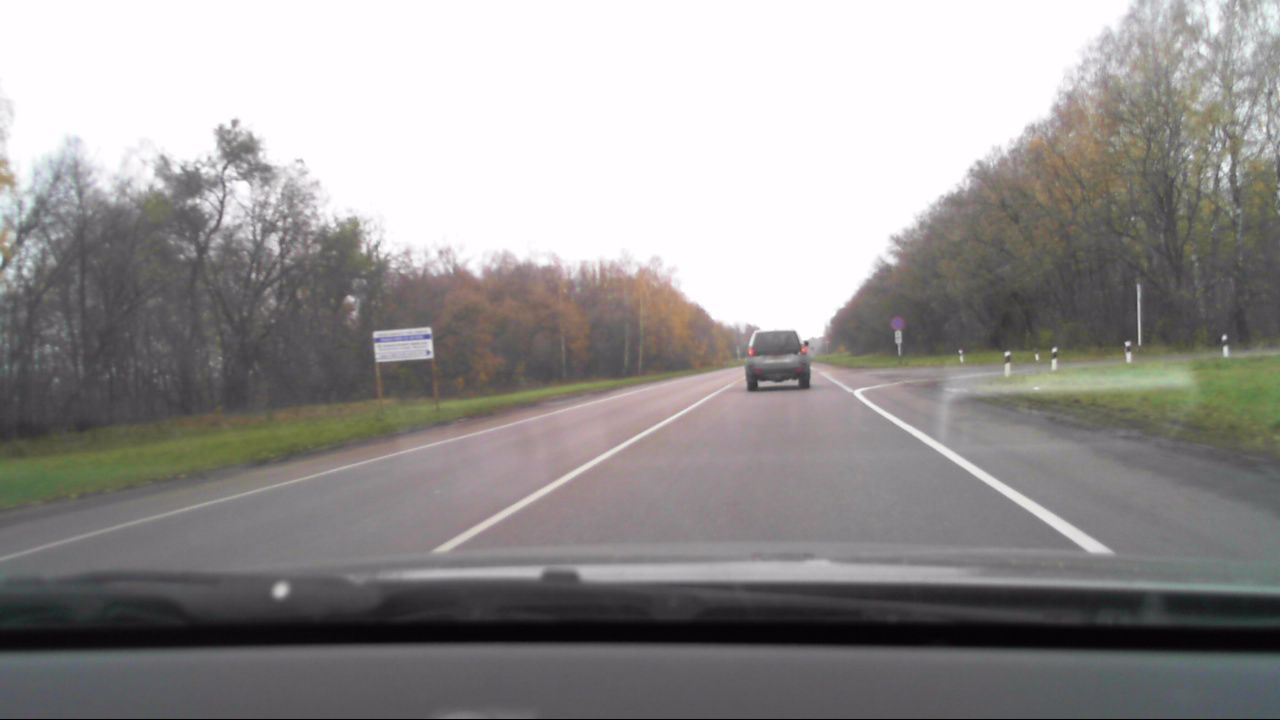No Parking: (890, 314, 908, 330)
